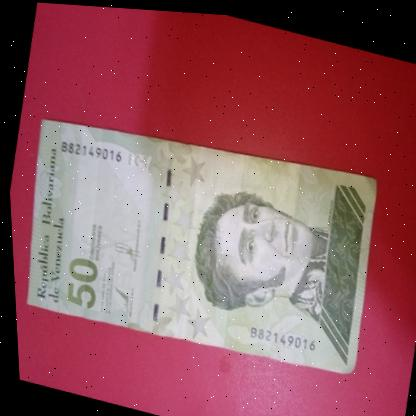fifty-front-vef: (4, 90, 389, 386)
